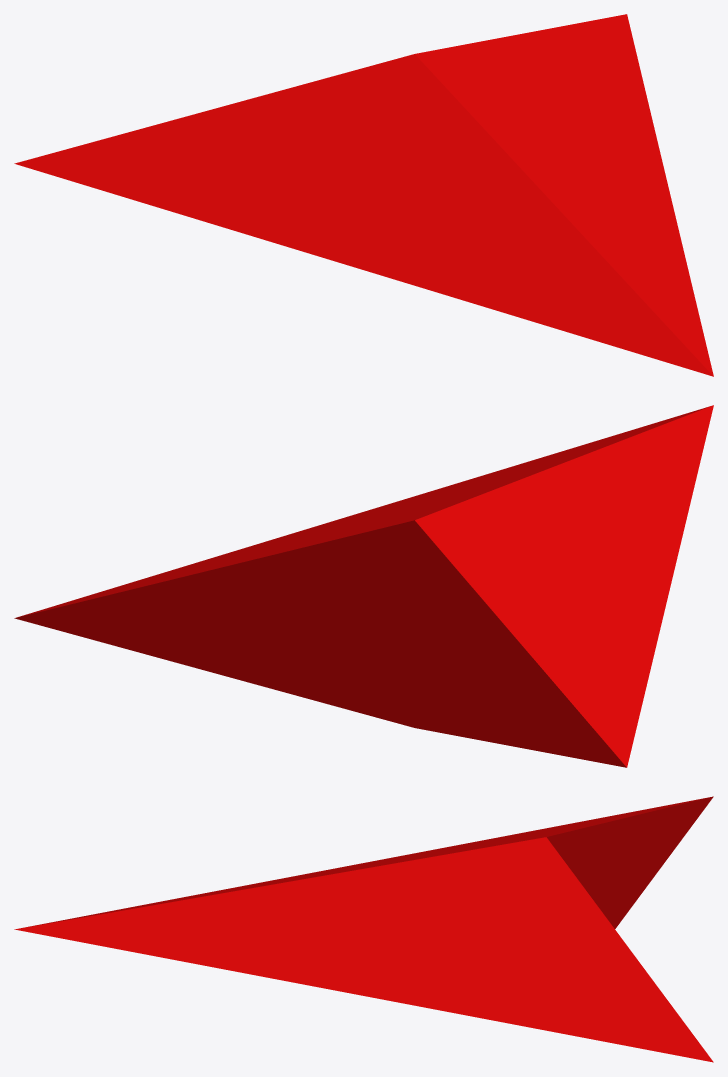
The model's file is north arrow.fbx.
3 views of the same model, one above another, from view 1: azimuth 30°, elevation 25°; view 2: azimuth 150°, elevation 25°; view 3: azimuth 270°, elevation 25° (orthographic). The views are drawn at different scales.
Visible parts, largest first — view 1: pPyramid1; view 2: pPyramid1; view 3: pPyramid1.
Boxes of the visible parts, box(x1,y1,x2,y2) form: pPyramid1: box(14, 14, 713, 376); pPyramid1: box(14, 405, 713, 767); pPyramid1: box(14, 796, 713, 1062).
Bounding box in the file's own units: 1.67 × 0.5393 × 1.85.
